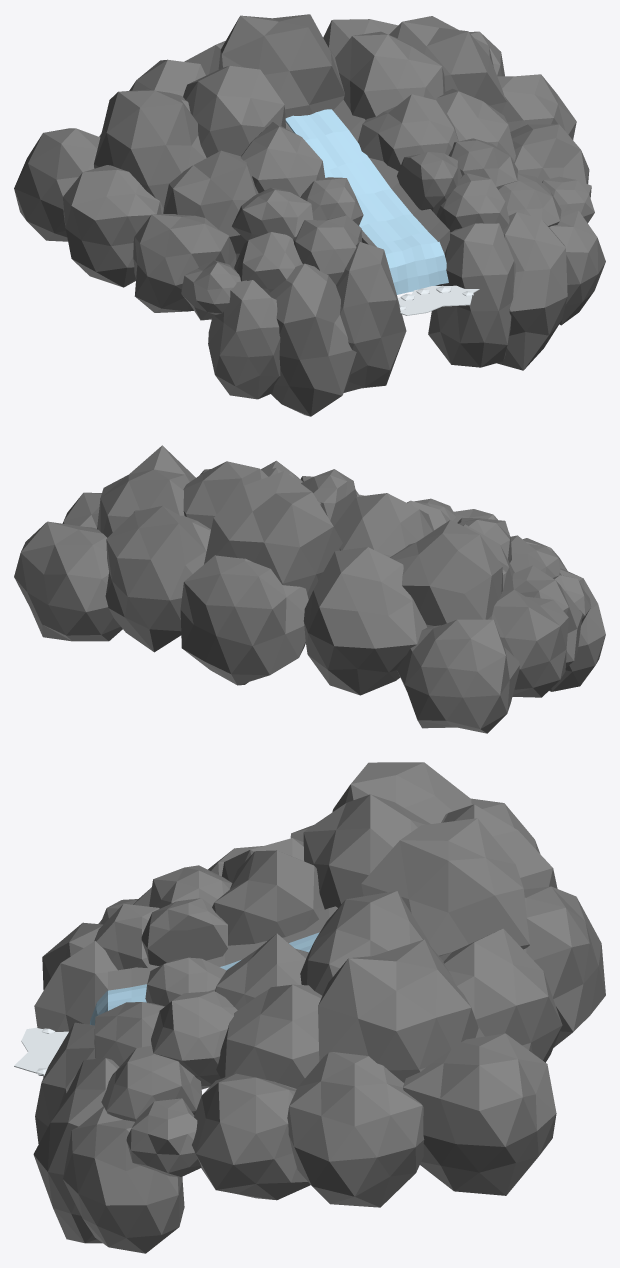
Rendered from japan_falls2_kit.fbx.
3 views of the same model, one above another, from view 1: azimuth 30°, elevation 25°; view 2: azimuth 150°, elevation 25°; view 3: azimuth 270°, elevation 25° (orthographic). The views are drawn at different scales.
Visible parts, largest first — view 1: Fall_Rock, Fall_Water, Fall_Foam; view 2: Fall_Rock; view 3: Fall_Rock, Fall_Foam, Fall_Water.
Part boxes in pixels (<box>): Fall_Rock: <box>14,14,605,416</box>; Fall_Water: <box>285,109,448,294</box>; Fall_Foam: <box>397,285,479,315</box>; Fall_Rock: <box>14,445,605,733</box>; Fall_Rock: <box>33,762,605,1253</box>; Fall_Foam: <box>14,1027,68,1075</box>; Fall_Water: <box>90,932,319,1025</box>.
Bounding box in the file's own units: 28.27 × 15 × 22.8.
